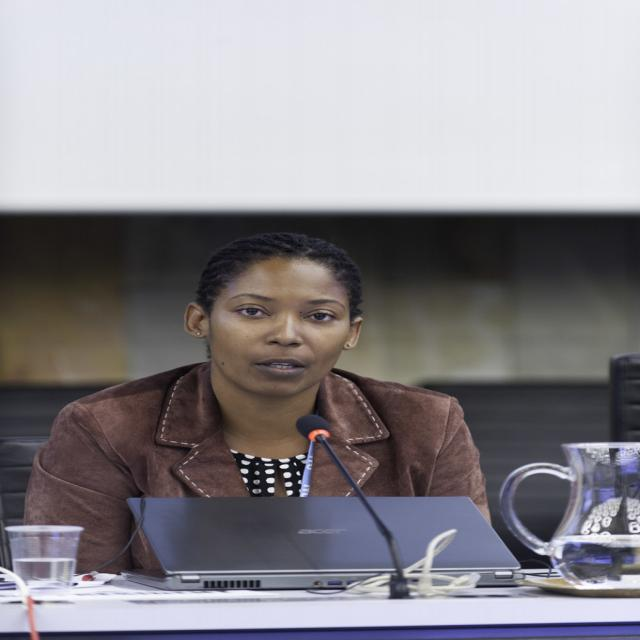chair: (608, 353, 639, 441)
desk: (0, 574, 639, 640)
laptop: (120, 495, 524, 591)
person: (17, 232, 505, 576)
